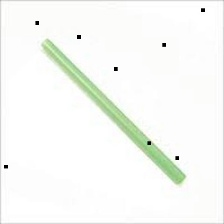drinking_straw: (29, 32, 191, 189)
